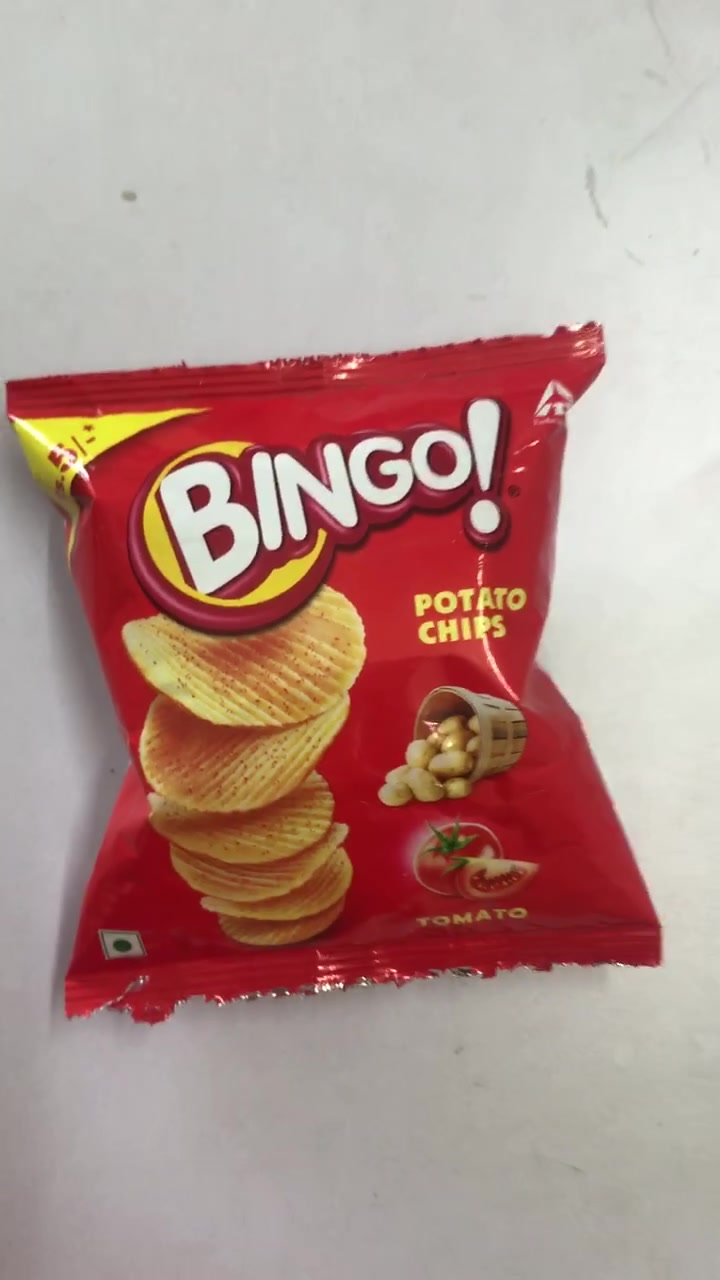Bingo: (12, 337, 667, 1002)
